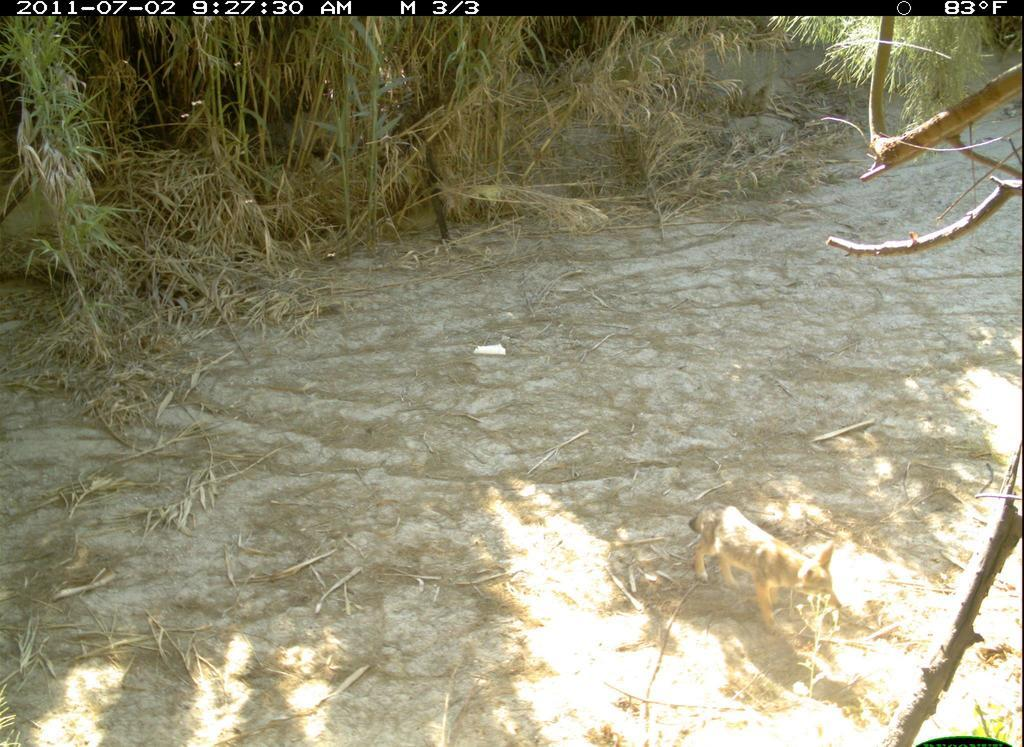coyote: (662, 502, 854, 642)
